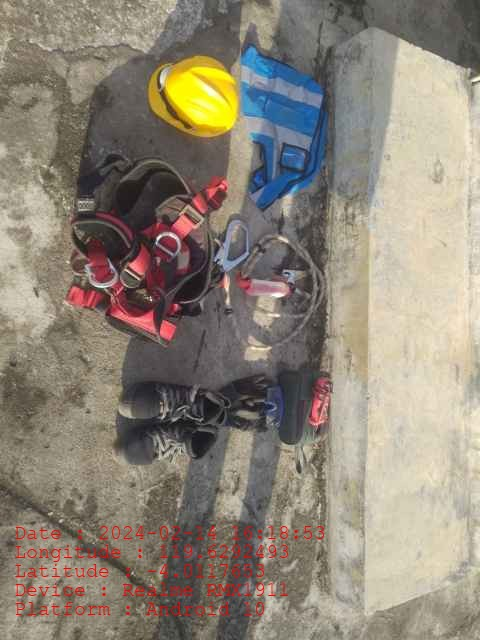HELM: (147, 54, 238, 137)
ROMPI: (240, 48, 325, 211)
SEPATU: (111, 381, 227, 470)
TAMBANG_SLING: (213, 215, 323, 352)
